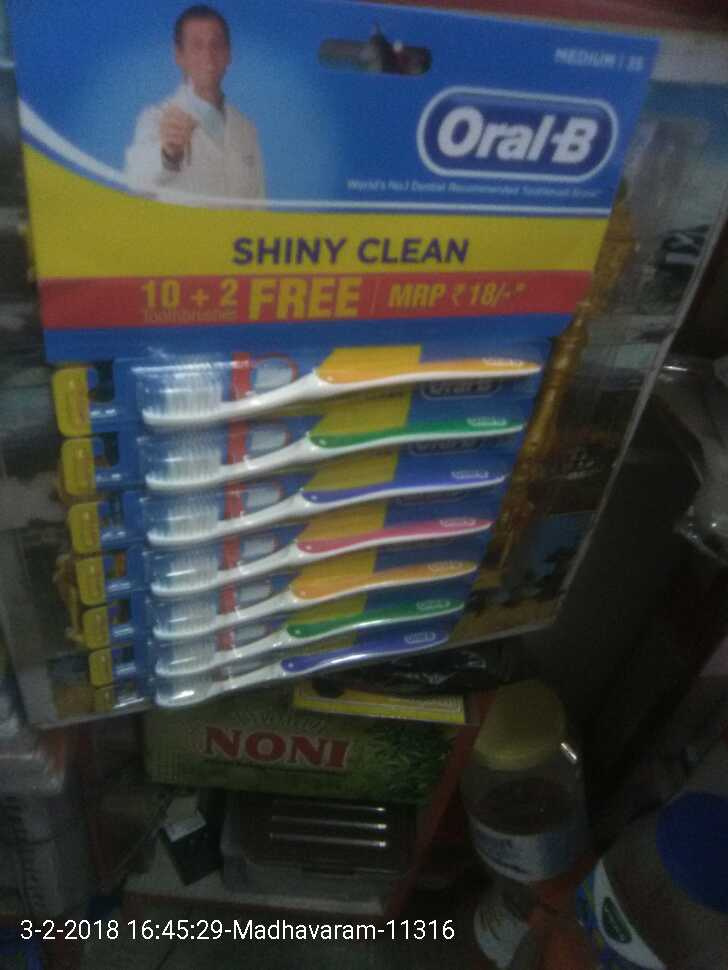oralb: (114, 348, 540, 710)
